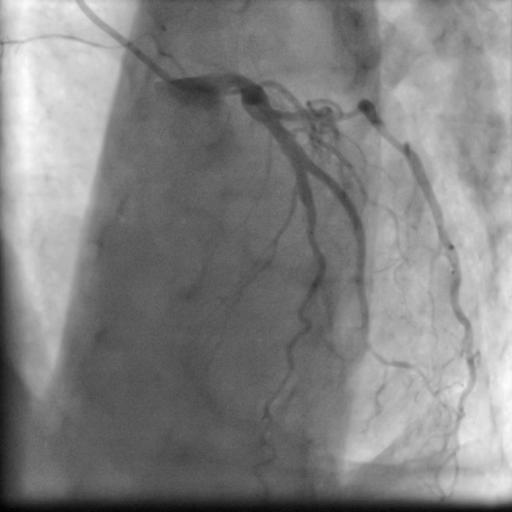Stenosis: (334, 97, 368, 127)
